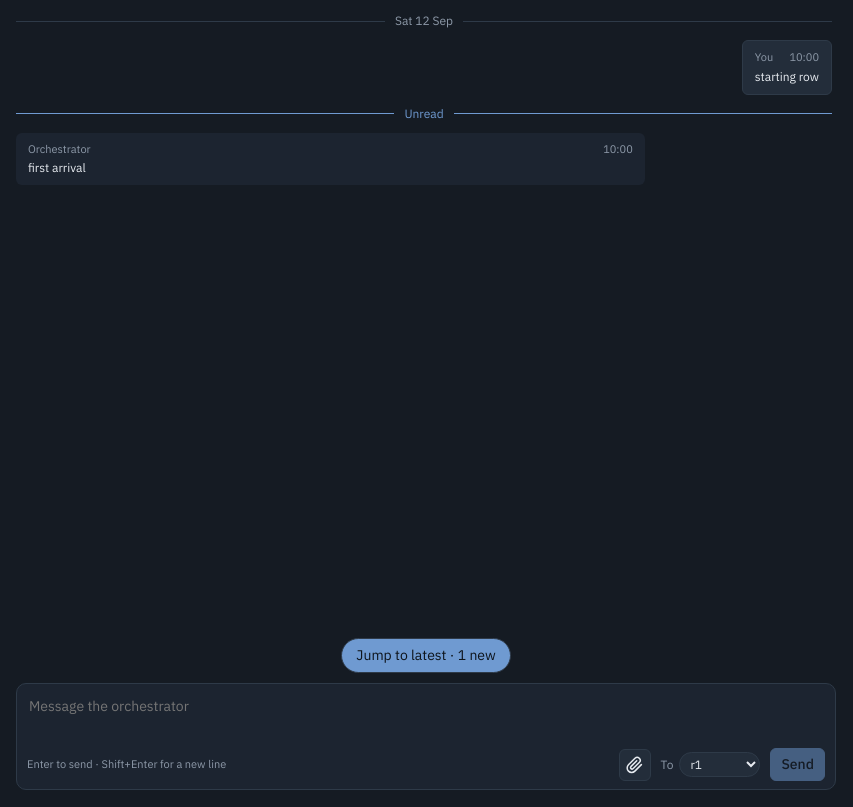
Test: Chat › jumps to the bottom and hides the control
Check: the text "starting row" is shown, box x1=755 y1=68 x2=819 y2=86
Check: the text "first arrival" is shown, box x1=28 y1=160 x2=86 y2=175
Click the button "Jump to latest · 1 new" at point(426, 656), box x1=341 y1=638 x2=511 y2=673
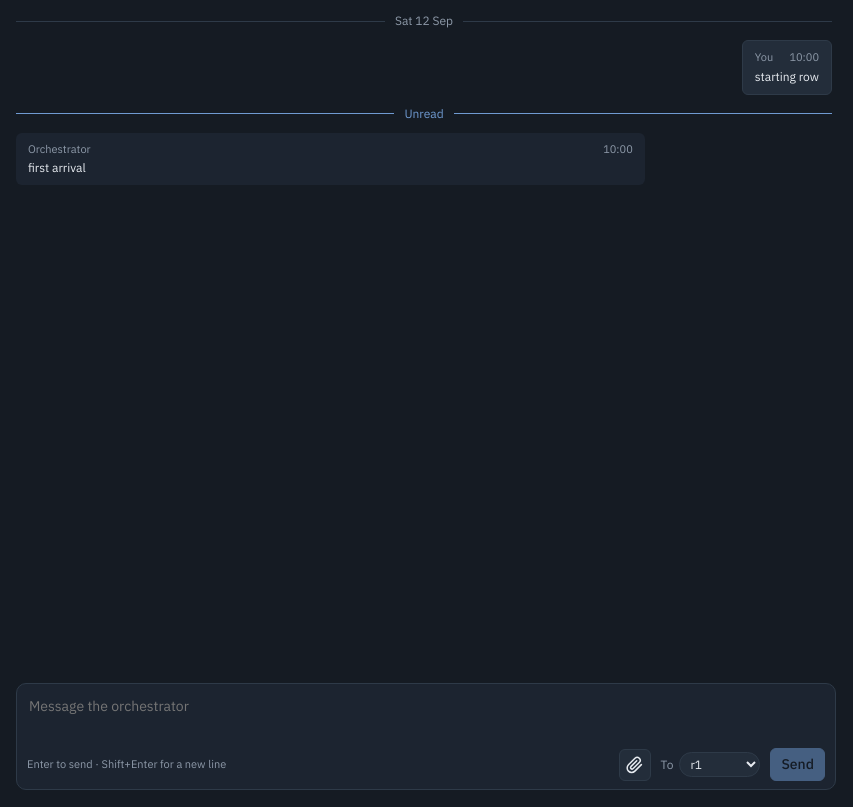
Check: the button "Jump to latest" is gone
